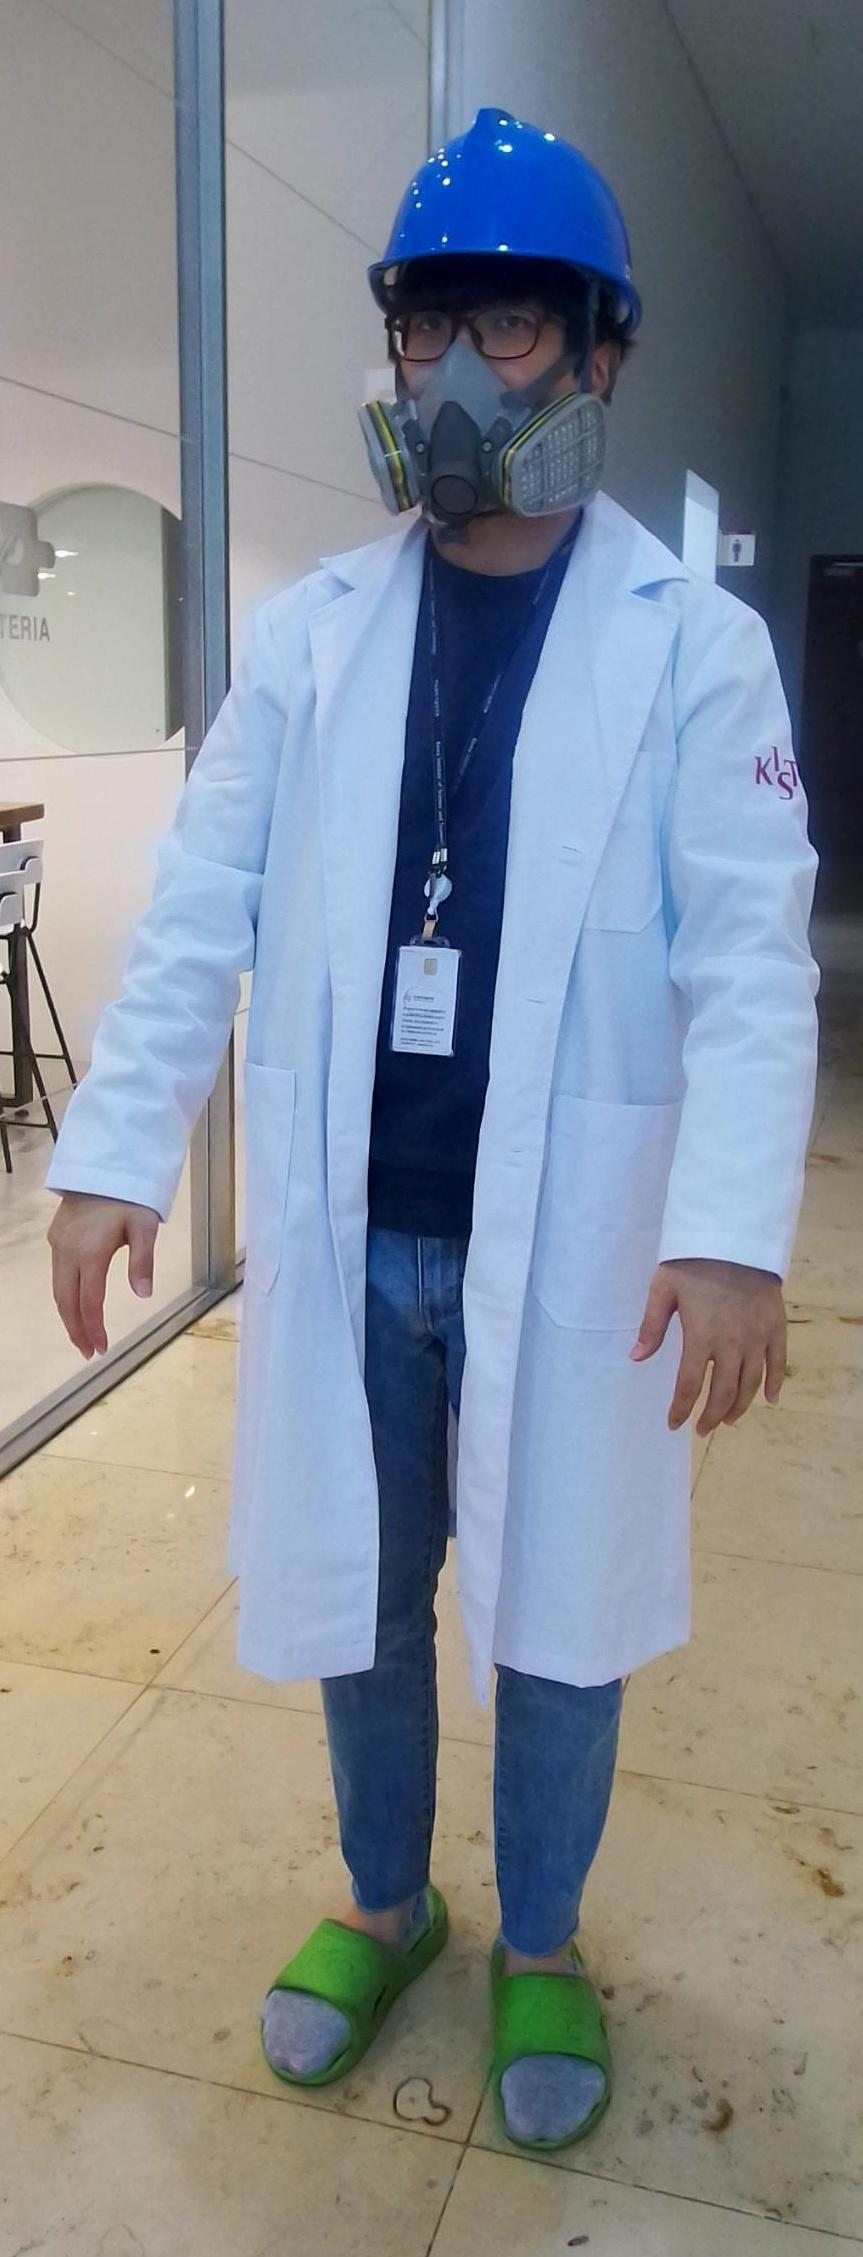lab_coat: (253, 602, 680, 1667)
